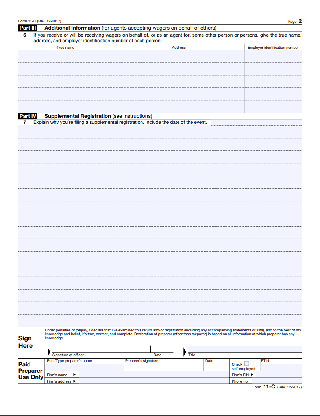checkbox: (243, 360, 249, 367)
textbox: (110, 72, 246, 89), (111, 48, 247, 64), (111, 61, 247, 77), (111, 85, 247, 101), (110, 98, 246, 114), (15, 73, 114, 89), (16, 86, 115, 102), (16, 97, 115, 113), (15, 61, 114, 76), (17, 48, 115, 63), (43, 356, 126, 373), (76, 370, 231, 379), (76, 375, 231, 384), (122, 357, 204, 372), (243, 48, 303, 65), (243, 60, 303, 77), (243, 72, 303, 89), (243, 85, 303, 102), (244, 97, 303, 114), (258, 358, 303, 372), (253, 370, 306, 379), (253, 375, 305, 384), (202, 357, 231, 372)
textline: (16, 130, 303, 141), (16, 141, 303, 152), (15, 154, 302, 165), (16, 179, 303, 190), (16, 192, 303, 203), (15, 229, 302, 240), (17, 254, 304, 265), (16, 267, 303, 278), (16, 280, 303, 291), (16, 292, 303, 303), (17, 318, 304, 329), (17, 167, 303, 178), (17, 305, 303, 316), (16, 205, 303, 215), (15, 217, 302, 227), (17, 243, 303, 253), (188, 344, 303, 353), (52, 344, 151, 353), (208, 119, 305, 128), (148, 344, 177, 353)
